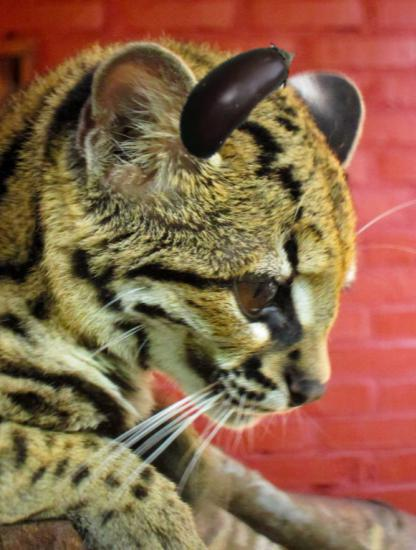Eggplant: (160, 25, 307, 172)
